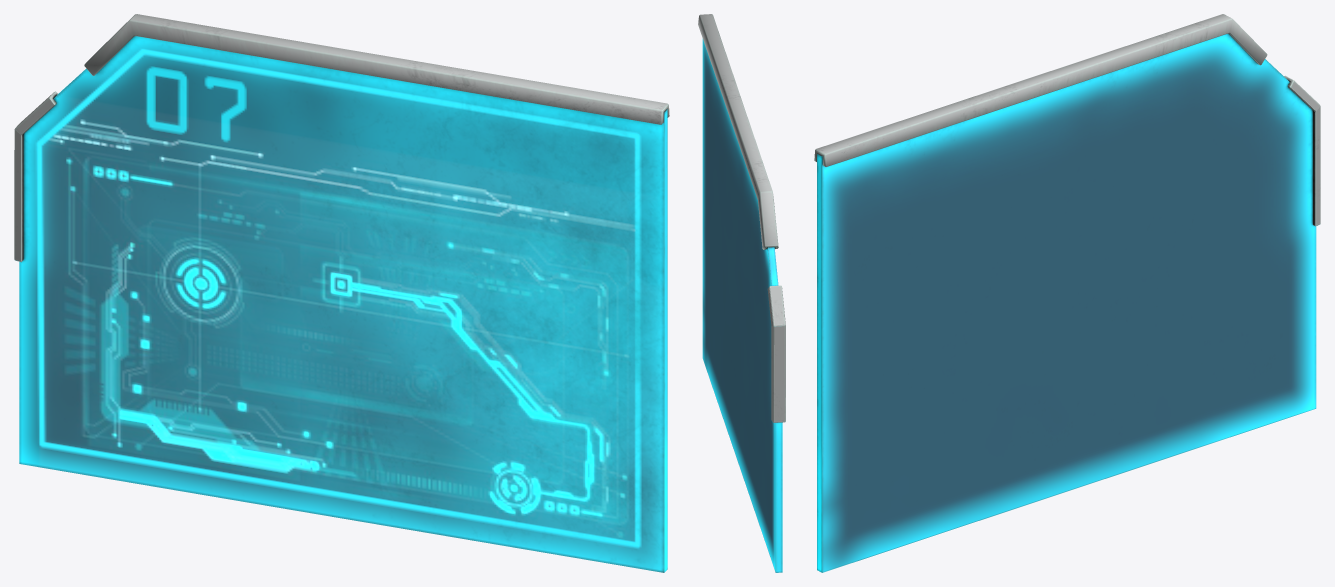
Rendered from TechWindow.fbx.
The picture shows the model from 3 angles, left to right: view 1: azimuth 30°, elevation 25°; view 2: azimuth 150°, elevation 25°; view 3: azimuth 270°, elevation 25°; orthographic projection. The views are drawn at different scales.
Visible parts, largest first — view 1: Object_19; view 2: Object_19; view 3: Object_19.
Part boxes in pixels (x1,y1,x2,y2): Object_19: (14, 14, 669, 572); Object_19: (698, 14, 785, 572); Object_19: (814, 14, 1320, 572).
Bounding box in the file's own units: 580 × 667 × 728.
